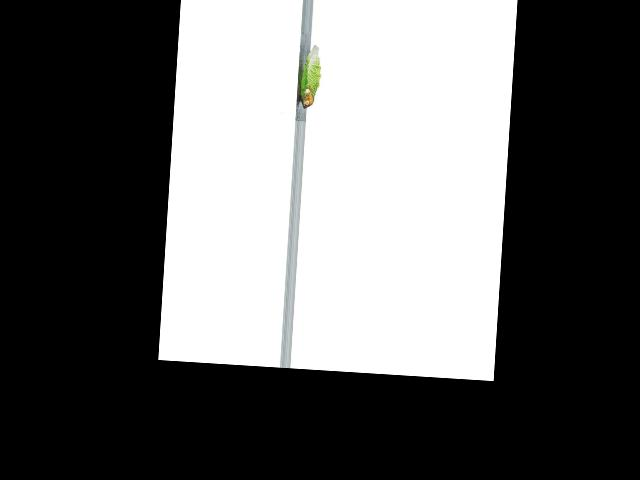lettuce: (295, 43, 325, 112)
